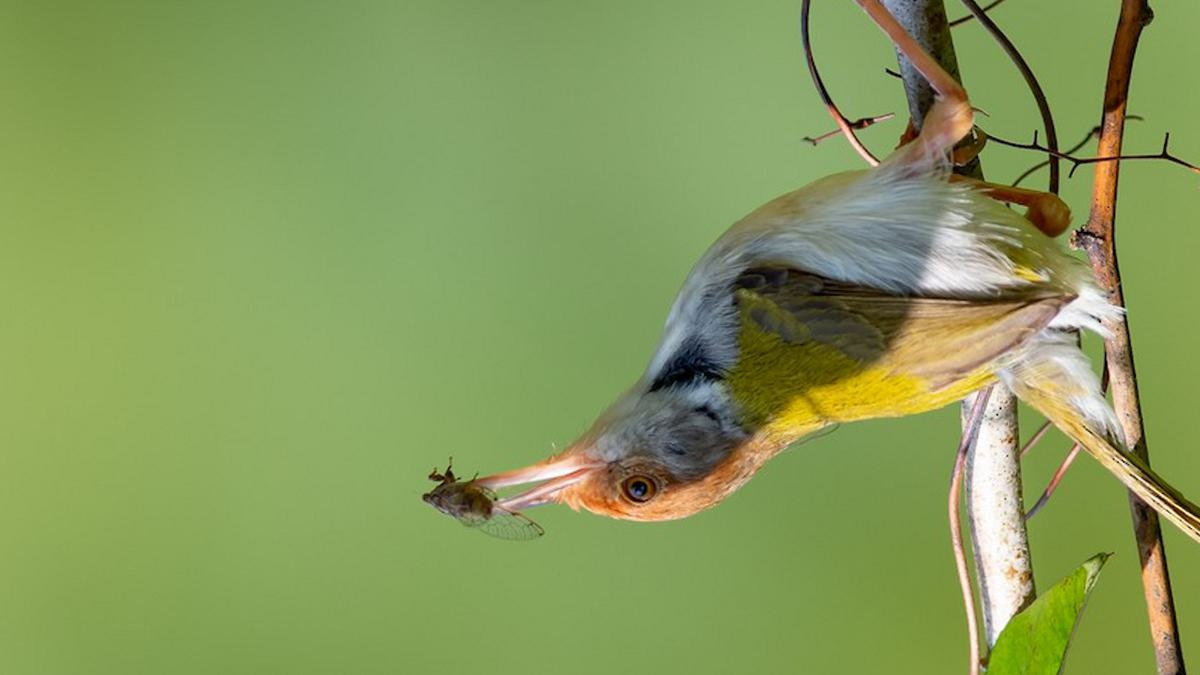tailorbird: (410, 30, 1097, 562)
